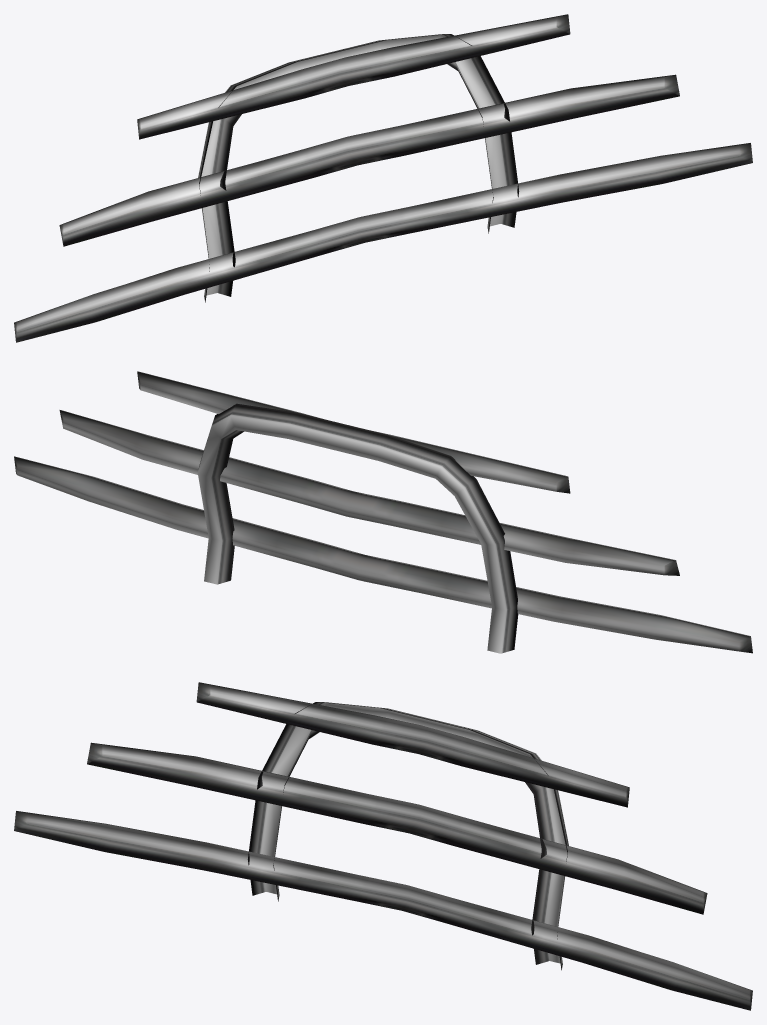
Rendered from fbb_lr_slv1.glb.
3 views of the same model, one above another, from view 1: azimuth 30°, elevation 25°; view 2: azimuth 150°, elevation 25°; view 3: azimuth 330°, elevation 25° (orthographic).
Visible parts, largest first — view 1: fbb_lr_slv1; view 2: fbb_lr_slv1; view 3: fbb_lr_slv1.
Part boxes in pixels (left/top/right/bottom): fbb_lr_slv1: left=14, top=14, right=752, bottom=342; fbb_lr_slv1: left=14, top=371, right=752, bottom=653; fbb_lr_slv1: left=14, top=682, right=752, bottom=1010.
Size of the model in its own units: 1.46 by 0.3804 by 0.1733.
1 material, 1 textured.
